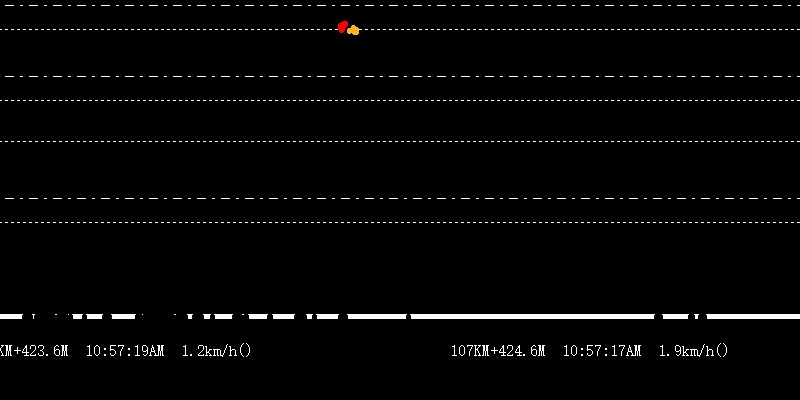face_1: (349, 20, 360, 38)
face_2: (336, 19, 348, 32)
